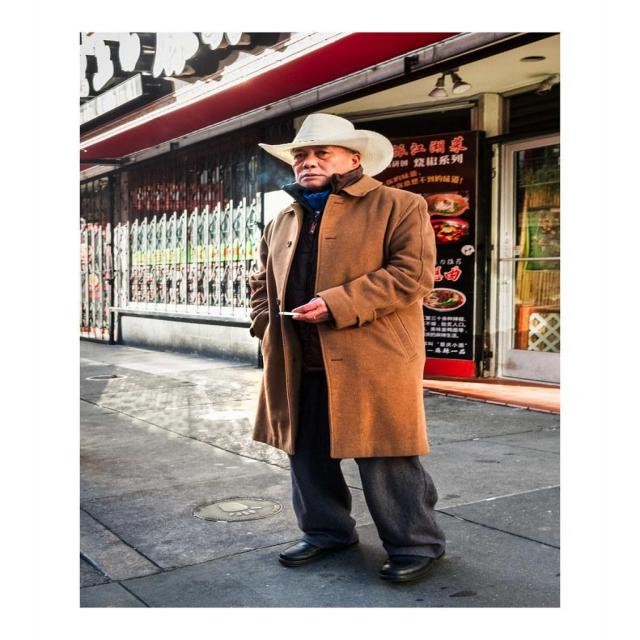Сигарета: (247, 112, 454, 580), (278, 310, 307, 318)
